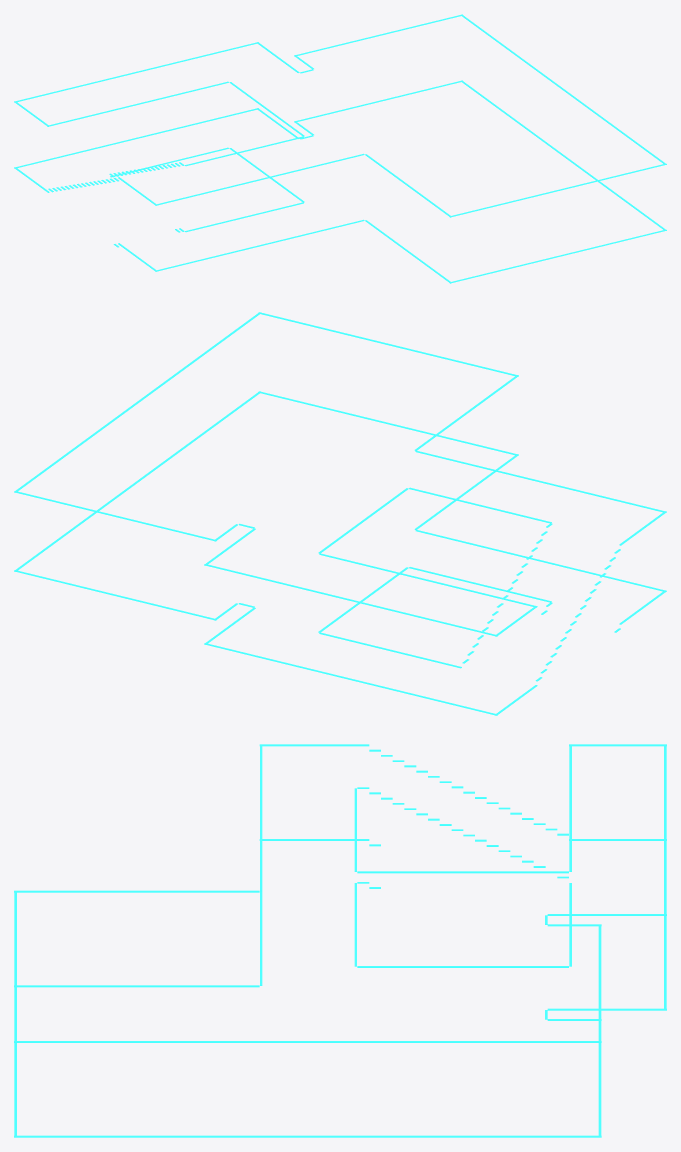
Rendered from v02-02-05-cyan.glb.
3 views of the same model, one above another, from view 1: azimuth 30°, elevation 25°; view 2: azimuth 150°, elevation 25°; view 3: azimuth 270°, elevation 25° (orthographic). The views are drawn at different scales.
Parts seen in each view (by area): view 1: v02-02-05-cyan; view 2: v02-02-05-cyan; view 3: v02-02-05-cyan.
Boxes of the visible parts, bbox=[...] form: v02-02-05-cyan: bbox=[14, 14, 666, 283]; v02-02-05-cyan: bbox=[14, 312, 666, 715]; v02-02-05-cyan: bbox=[14, 744, 666, 1137].
Size of the model in its own units: 21.6 by 3.4 by 20.
